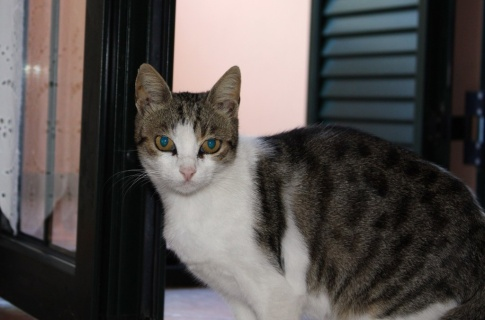Cat: (110, 59, 485, 320)
